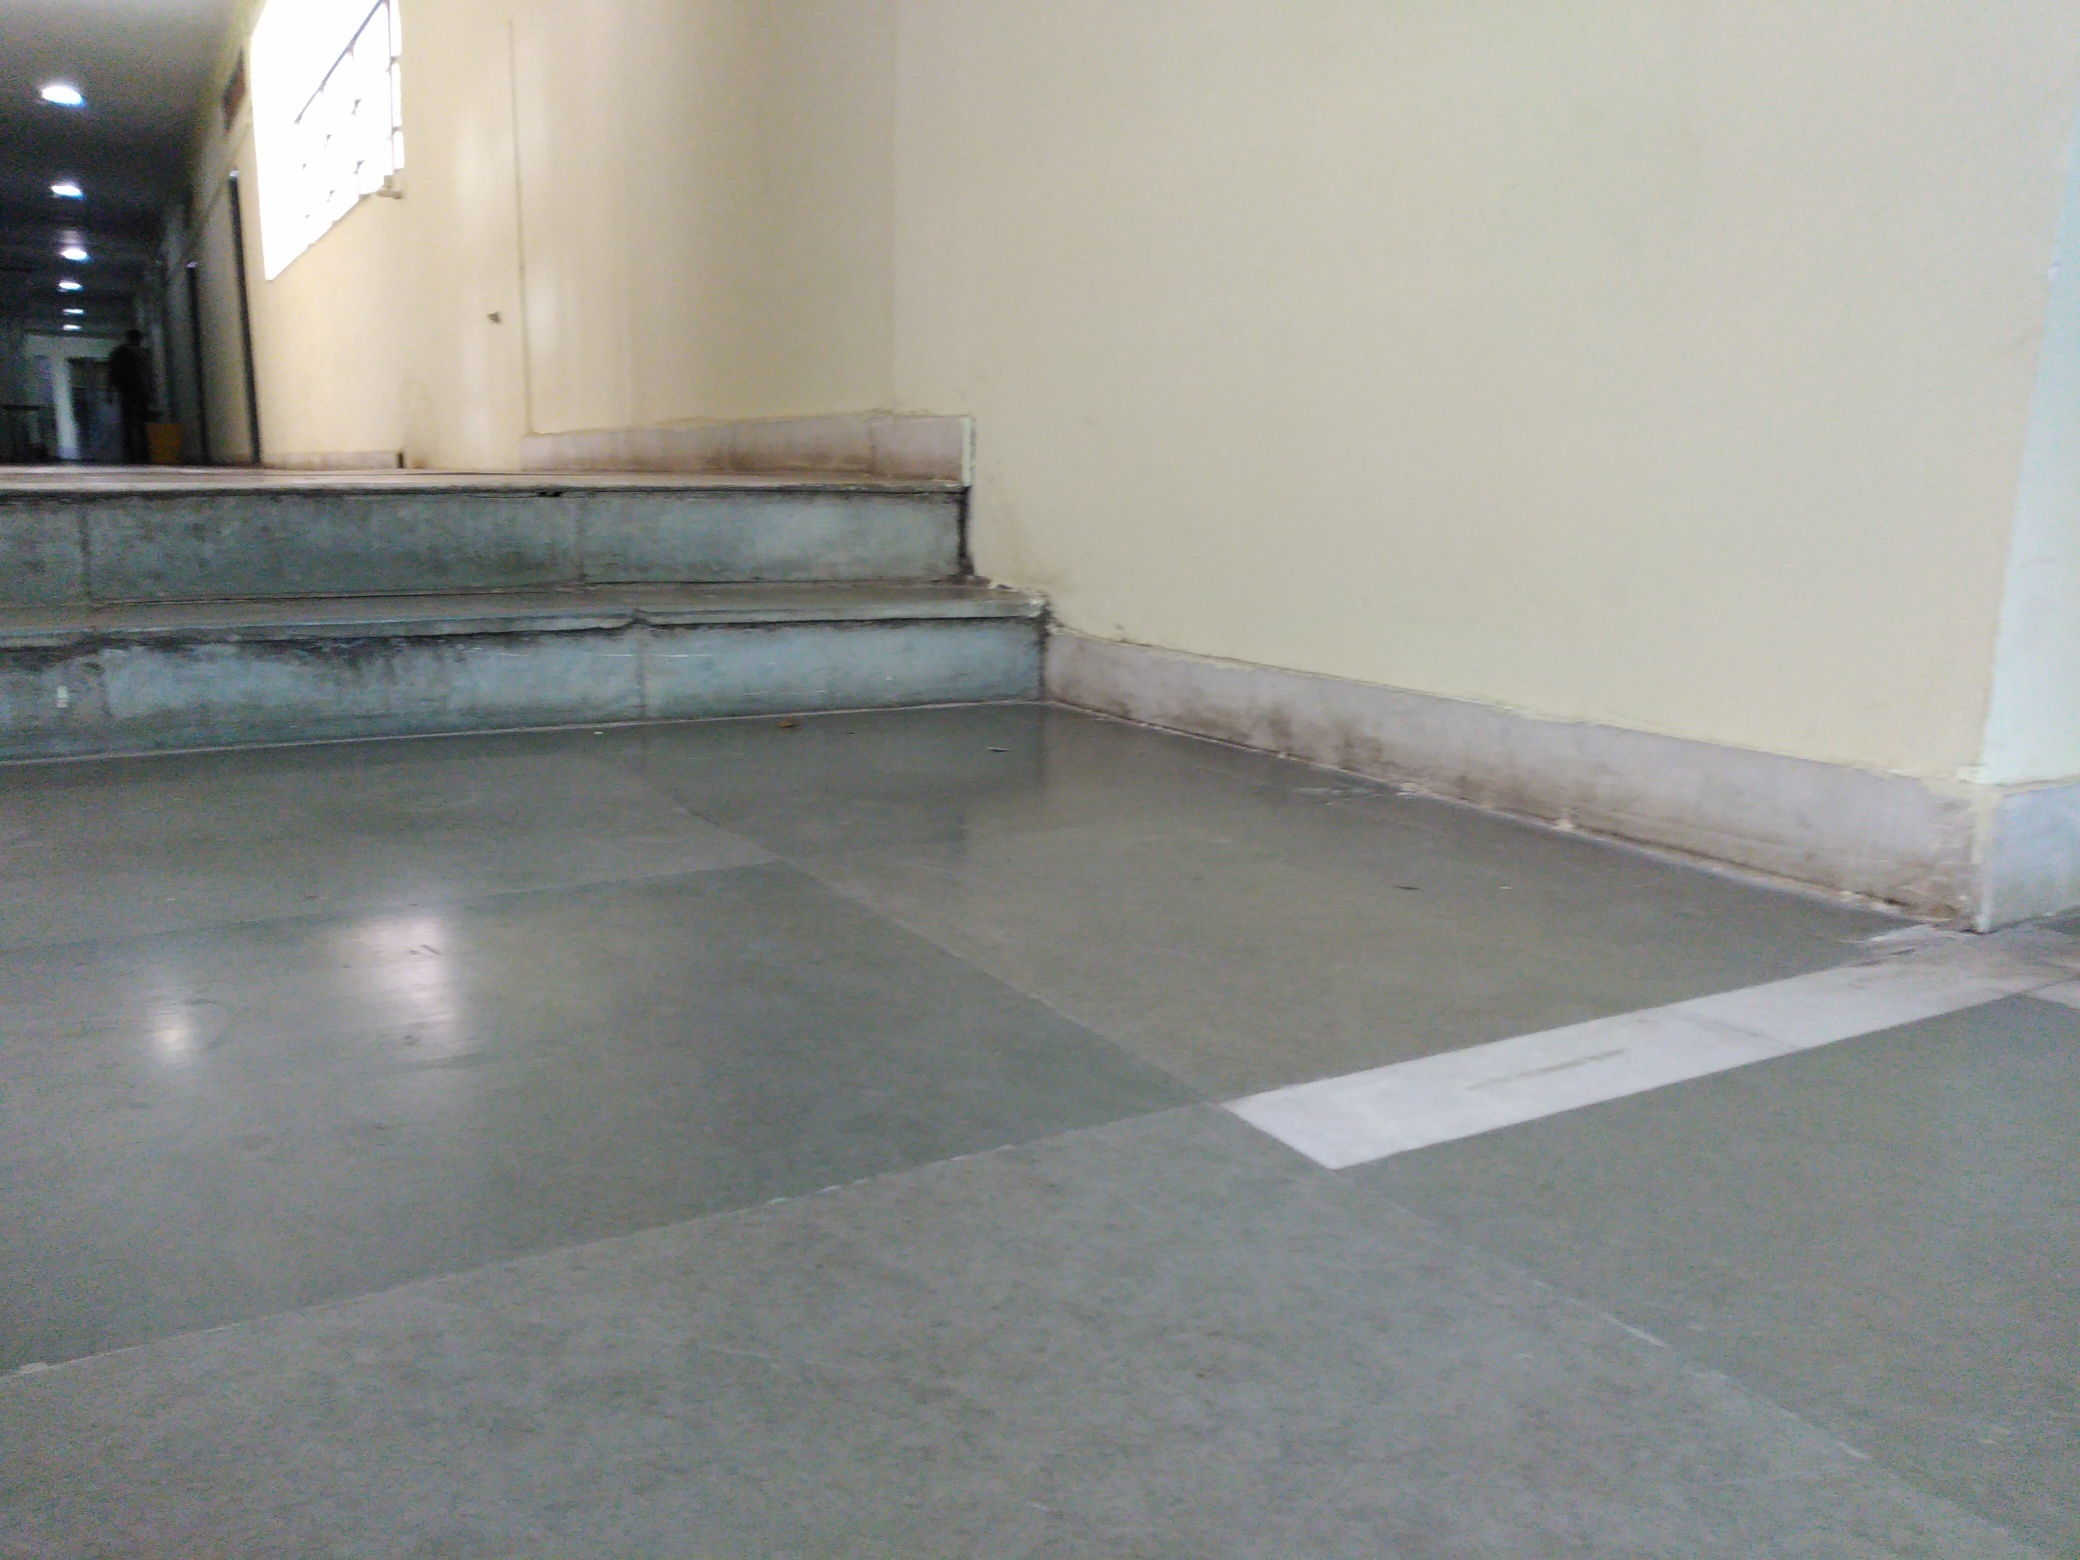stairs_up: (11, 482, 1065, 706)
